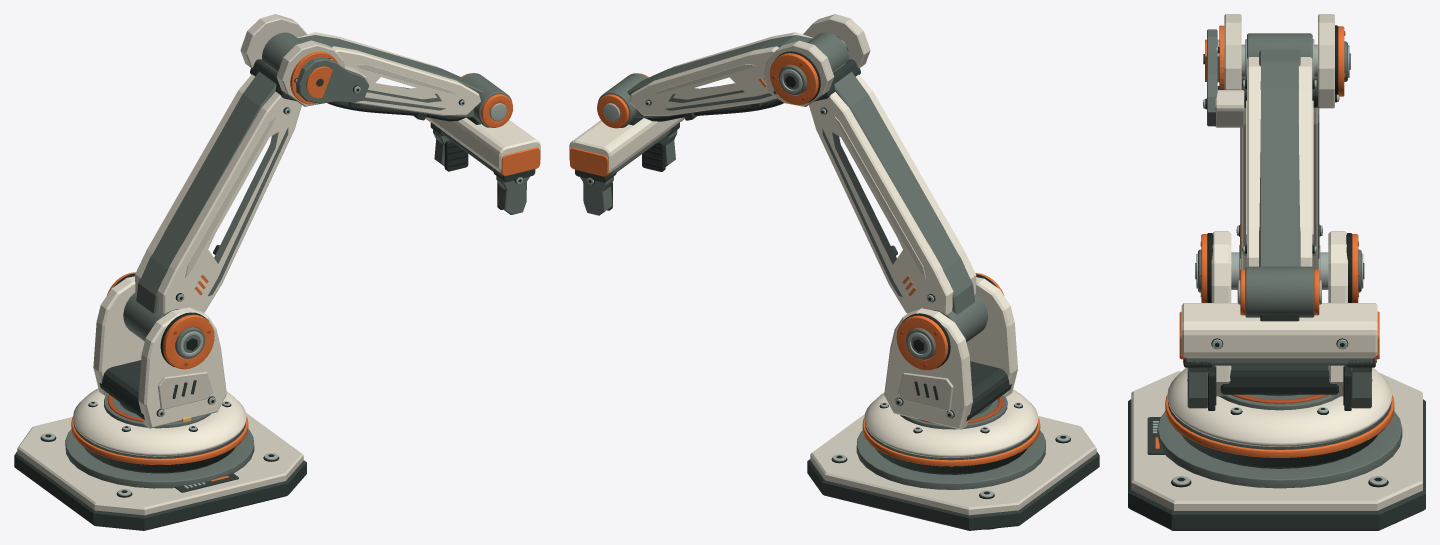
Rendered from rakitron-arm.glb.
The picture shows the model from 3 angles, left to right: view 1: azimuth 30°, elevation 25°; view 2: azimuth 150°, elevation 25°; view 3: azimuth 270°, elevation 25°; orthographic projection. The views are drawn at different scales.
Visible parts, largest first — view 1: UpperArm, Stand, Shoulder, Forearm, Base, Gripper, Elbow, JawLeft, JawRight; view 2: UpperArm, Stand, Shoulder, Base, Forearm, Elbow, Gripper, JawRight, JawLeft; view 3: Stand, Forearm, Gripper, Base, Shoulder, Elbow, UpperArm, JawLeft, JawRight.
Boxes of the visible parts, x1=… form: UpperArm: x1=123, y1=63, x2=301, y2=341; Stand: x1=14, y1=413, x2=306, y2=530; Shoulder: x1=93, y1=272, x2=226, y2=428; Forearm: x1=262, y1=32, x2=482, y2=121; Base: x1=71, y1=388, x2=248, y2=472; Gripper: x1=426, y1=73, x2=540, y2=177; Elbow: x1=240, y1=14, x2=345, y2=106; JawLeft: x1=493, y1=169, x2=535, y2=214; JawRight: x1=430, y1=122, x2=468, y2=171; UpperArm: x1=809, y1=63, x2=987, y2=342; Stand: x1=807, y1=414, x2=1099, y2=530; Shoulder: x1=884, y1=273, x2=1017, y2=429; Base: x1=862, y1=389, x2=1040, y2=473; Forearm: x1=627, y1=32, x2=848, y2=121; Elbow: x1=764, y1=14, x2=870, y2=106; Gripper: x1=569, y1=73, x2=684, y2=176; JawRight: x1=575, y1=169, x2=616, y2=215; JawLeft: x1=642, y1=122, x2=679, y2=171; Stand: x1=1128, y1=371, x2=1425, y2=530; Forearm: x1=1203, y1=29, x2=1316, y2=266; Gripper: x1=1179, y1=266, x2=1379, y2=365; Base: x1=1165, y1=367, x2=1394, y2=467; Shoulder: x1=1195, y1=231, x2=1364, y2=396; Elbow: x1=1216, y1=14, x2=1350, y2=108; UpperArm: x1=1236, y1=107, x2=1322, y2=279; JawLeft: x1=1183, y1=358, x2=1216, y2=410; JawRight: x1=1343, y1=358, x2=1376, y2=410.
Bounding box in the file's own units: 2.41 × 2.09 × 1.06.
